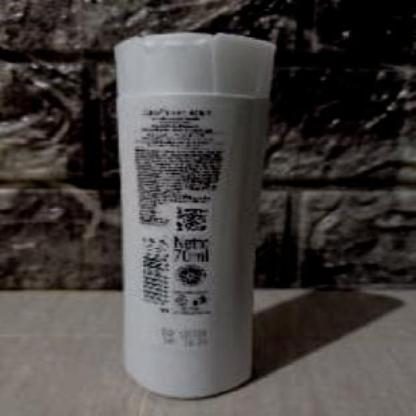objects: (113, 26, 275, 402)
